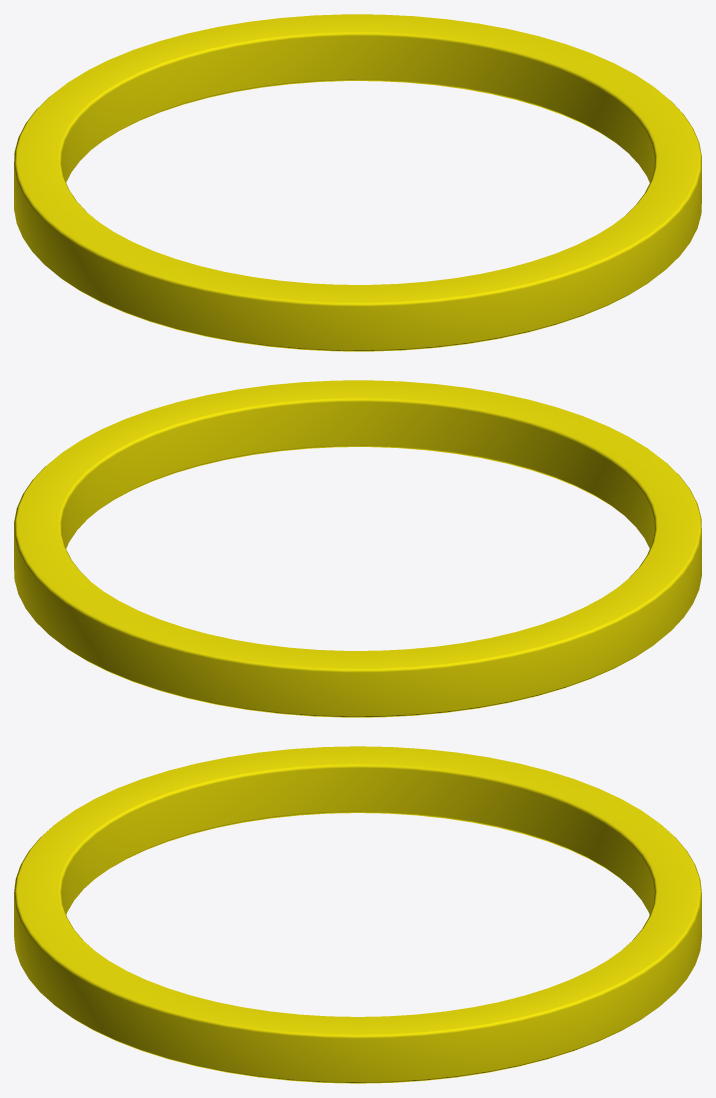
3 views of the same model, one above another, from view 1: azimuth 30°, elevation 25°; view 2: azimuth 150°, elevation 25°; view 3: azimuth 270°, elevation 25° (orthographic).
Visible parts, largest first — view 1: seal_body; view 2: seal_body; view 3: seal_body.
Boxes of the visible parts, x1,y1,x2,y2 form: seal_body: [14, 14, 701, 351]; seal_body: [14, 380, 701, 717]; seal_body: [14, 746, 701, 1083].
Bounding box in the file's own units: 0.0638 × 0.00505 × 0.0638.
